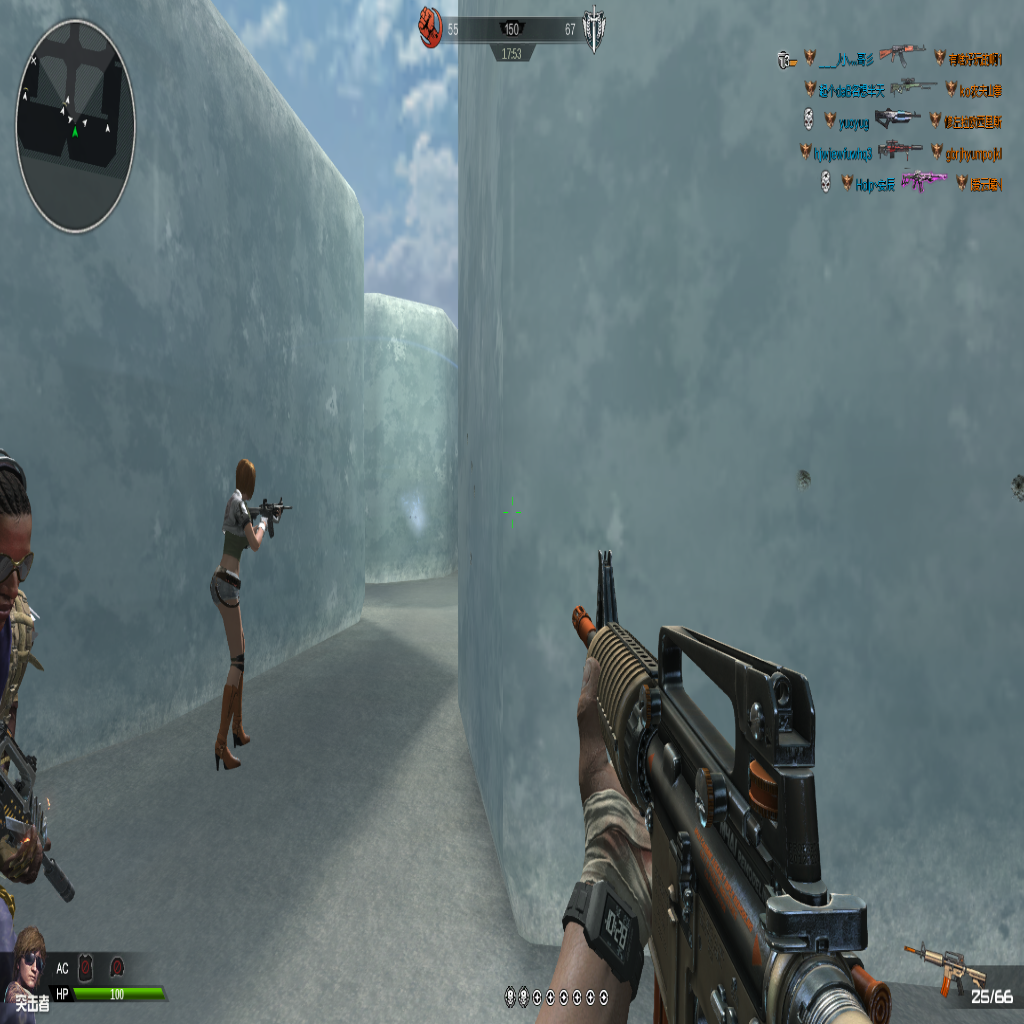tt: (1, 483, 49, 911), (212, 461, 273, 769)
